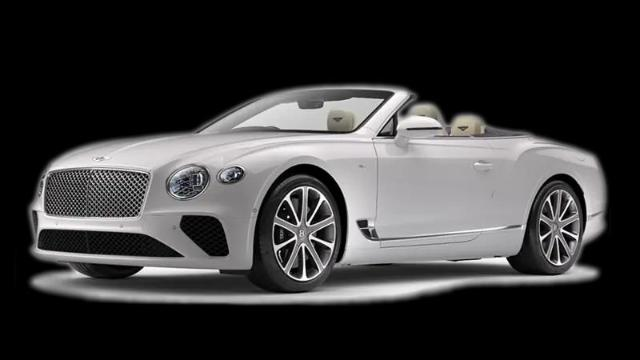bentley: (30, 84, 606, 294)
